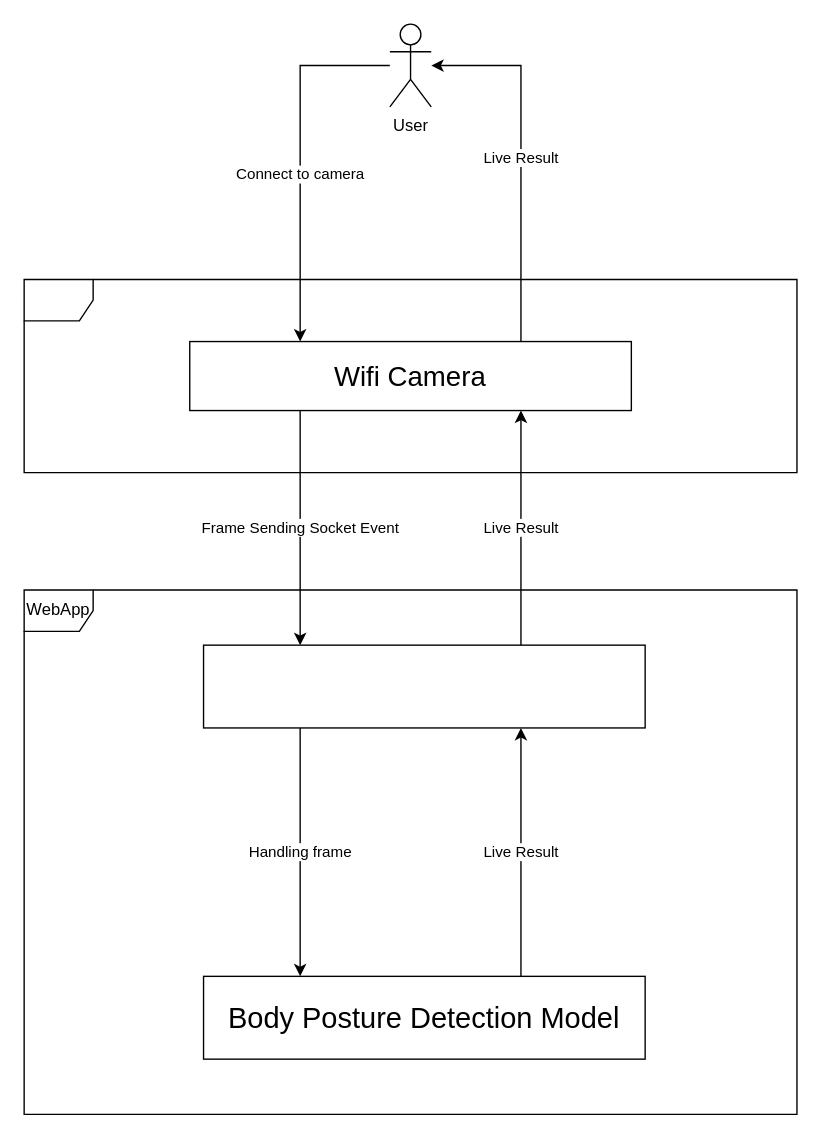
Some shapes in this 821 by 1139 pixel diagram are drawn without their labels. Each missing label, with the centre of its shape:
"Front-End Web" goes at point (423, 686).
"WifiCam" goes at point (410, 375).
